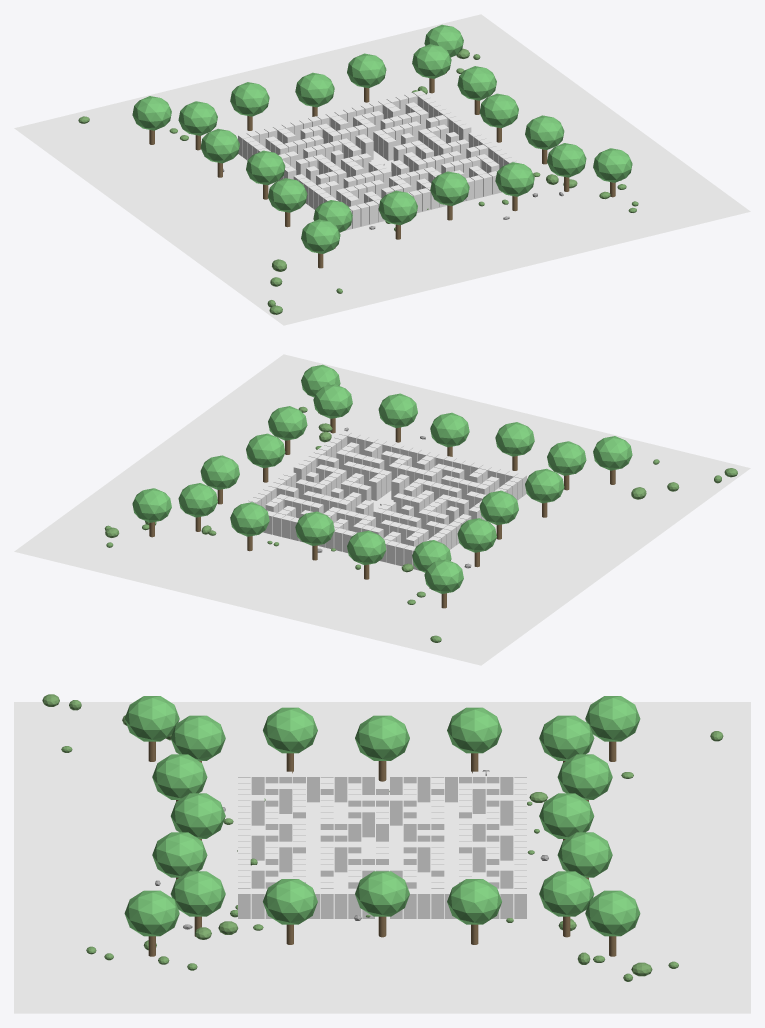
The picture shows the model from 3 angles, top to bottom: view 1: azimuth 30°, elevation 25°; view 2: azimuth 150°, elevation 25°; view 3: azimuth 270°, elevation 25°; orthographic projection. The views are drawn at different scales.
Visible parts, largest first — view 1: Ground, Tree_Foliage_10_-22, Tree_Foliage_-10_22, Tree_Foliage_10_22, Tree_Foliage_22_-10, Tree_Foliage_20_0, Tree_Foliage_-20_0, Tree_Foliage_-22_10, Tree_Foliage_0_20, Tree_Foliage_-10_-22, Tree_Foliage_-20_20, Tree_Foliage_0_-20 (+9 smaller); view 2: Ground, Tree_Foliage_10_22, Tree_Foliage_-10_-22, Tree_Foliage_10_-22, Tree_Foliage_20_0, Tree_Foliage_22_10, Tree_Foliage_-22_-10, Tree_Foliage_-20_0, Tree_Foliage_-10_22, Tree_Foliage_0_-20, Tree_Foliage_0_20, Tree_Foliage_-20_-20 (+9 smaller); view 3: Ground, Tree_Foliage_25_-25, Tree_Foliage_25_25, Tree_Foliage_-22_-10, Tree_Foliage_-22_10, Tree_Foliage_20_0, Tree_Foliage_-20_0, Tree_Foliage_22_-10, Tree_Foliage_22_10, Tree_Foliage_-25_-25, Tree_Foliage_-25_25, Tree_Foliage_20_20 (+9 smaller).
Part boxes in pixels (bbox=[...]): Ground: bbox=[14, 14, 750, 325]; Tree_Foliage_10_-22: bbox=[495, 162, 534, 196]; Tree_Foliage_-10_22: bbox=[230, 82, 269, 116]; Tree_Foliage_10_22: bbox=[347, 53, 386, 88]; Tree_Foliage_22_-10: bbox=[525, 115, 564, 149]; Tree_Foliage_20_0: bbox=[479, 93, 518, 128]; Tree_Foliage_-20_0: bbox=[246, 150, 285, 185]; Tree_Foliage_-22_10: bbox=[200, 128, 239, 163]; Tree_Foliage_0_20: bbox=[295, 72, 334, 107]; Tree_Foliage_-10_-22: bbox=[378, 190, 417, 225]; Tree_Foliage_-20_20: bbox=[178, 101, 217, 135]; Tree_Foliage_0_-20: bbox=[430, 171, 469, 205]; Ground: bbox=[14, 354, 750, 665]; Tree_Foliage_10_22: bbox=[230, 502, 269, 536]; Tree_Foliage_-10_-22: bbox=[495, 422, 534, 456]; Tree_Foliage_10_-22: bbox=[378, 393, 417, 428]; Tree_Foliage_20_0: bbox=[246, 433, 285, 468]; Tree_Foliage_22_10: bbox=[200, 455, 239, 489]; Tree_Foliage_-22_-10: bbox=[525, 468, 564, 503]; Tree_Foliage_-20_0: bbox=[479, 490, 518, 525]; Tree_Foliage_-10_22: bbox=[347, 530, 386, 565]; Tree_Foliage_0_-20: bbox=[430, 412, 469, 447]; Tree_Foliage_0_20: bbox=[295, 511, 334, 545]; Tree_Foliage_-20_-20: bbox=[547, 441, 586, 475]; Ground: bbox=[14, 702, 750, 1013]; Tree_Foliage_25_-25: bbox=[124, 890, 179, 936]; Tree_Foliage_25_25: bbox=[585, 890, 640, 936]; Tree_Foliage_-22_-10: bbox=[263, 707, 317, 753]; Tree_Foliage_-22_10: bbox=[447, 707, 501, 753]; Tree_Foliage_20_0: bbox=[355, 871, 409, 916]; Tree_Foliage_-20_0: bbox=[355, 715, 409, 760]; Tree_Foliage_22_-10: bbox=[263, 879, 317, 924]; Tree_Foliage_22_10: bbox=[447, 879, 501, 924]; Tree_Foliage_-25_-25: bbox=[124, 696, 179, 741]; Tree_Foliage_-25_25: bbox=[585, 696, 640, 741]; Tree_Foliage_20_20: bbox=[539, 871, 594, 916].
Size of the model in its own units: 80 by 7.68 by 80.
